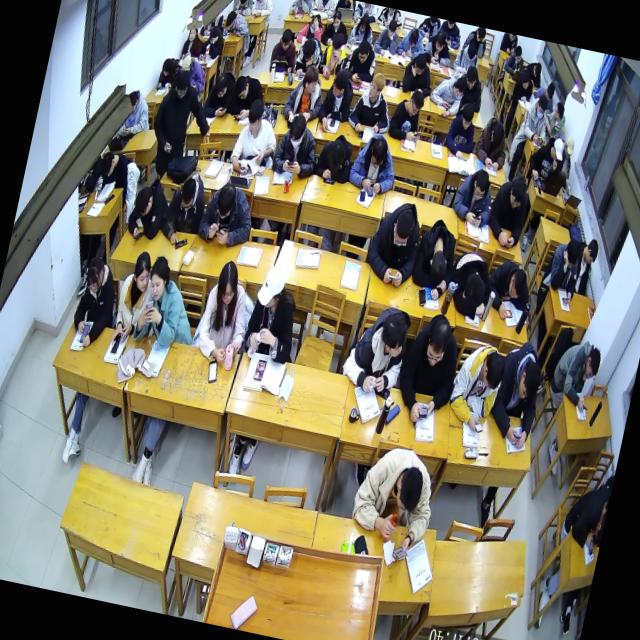bow: (482, 335, 550, 451), (406, 214, 464, 304), (154, 166, 212, 250), (442, 246, 496, 322), (122, 172, 174, 246), (482, 255, 536, 325), (312, 128, 358, 186), (471, 114, 514, 172), (424, 69, 468, 122), (225, 70, 268, 124), (200, 66, 238, 123), (399, 48, 437, 100), (291, 32, 327, 81), (420, 25, 456, 68), (394, 22, 428, 61), (294, 8, 326, 46), (220, 7, 252, 40), (524, 59, 546, 89), (287, 0, 315, 17), (233, 0, 256, 17)
down: (390, 462, 427, 518), (421, 313, 454, 369), (144, 253, 174, 304), (514, 358, 544, 404), (214, 259, 242, 307), (479, 348, 508, 392), (212, 178, 239, 224), (389, 206, 416, 250), (284, 110, 310, 152), (82, 255, 108, 296), (324, 136, 349, 176), (506, 172, 530, 212), (366, 133, 391, 171), (504, 264, 529, 302), (243, 98, 267, 136), (176, 174, 200, 212), (131, 184, 155, 219), (582, 346, 604, 382), (561, 236, 582, 272), (172, 66, 192, 102), (97, 148, 118, 180), (405, 88, 426, 120), (470, 170, 490, 203), (458, 101, 477, 132), (212, 70, 230, 102), (582, 236, 600, 268), (488, 118, 507, 148), (232, 73, 252, 101), (430, 26, 448, 56), (532, 92, 550, 122), (328, 28, 346, 57), (300, 36, 318, 64), (354, 38, 372, 66), (451, 74, 469, 102), (548, 136, 566, 164), (411, 51, 428, 78), (462, 64, 479, 91), (124, 88, 140, 115), (278, 26, 294, 52), (561, 136, 577, 162), (160, 56, 174, 78), (224, 8, 238, 30), (357, 12, 371, 34), (406, 26, 420, 48), (386, 16, 398, 40), (207, 24, 220, 46), (331, 8, 344, 30), (518, 70, 531, 92), (308, 14, 320, 36), (512, 45, 524, 66), (214, 104, 228, 120), (237, 0, 250, 9)
lookup: (186, 26, 198, 44)
sit: (342, 438, 443, 566), (389, 306, 469, 430), (144, 64, 221, 181), (338, 295, 415, 398), (192, 256, 259, 372), (131, 251, 207, 352), (240, 260, 309, 368), (443, 335, 510, 436), (361, 194, 428, 289), (67, 252, 124, 350), (108, 246, 160, 350), (227, 95, 286, 182), (194, 175, 258, 252), (544, 334, 604, 414), (482, 168, 534, 250), (346, 128, 404, 198), (344, 68, 400, 139), (270, 109, 324, 182), (280, 58, 330, 128), (540, 232, 586, 308), (559, 484, 611, 551), (449, 163, 500, 230), (314, 63, 359, 135), (440, 99, 480, 164), (386, 84, 429, 143), (524, 131, 566, 187), (315, 28, 353, 84), (118, 86, 156, 140), (569, 234, 601, 298), (342, 36, 382, 86), (519, 90, 554, 146), (552, 134, 582, 198), (266, 25, 302, 78), (94, 147, 132, 194), (454, 62, 489, 112), (372, 14, 404, 58), (320, 6, 353, 48), (542, 98, 572, 143), (195, 22, 227, 64), (450, 36, 482, 78), (346, 11, 377, 49), (155, 54, 184, 93), (178, 23, 204, 62), (510, 68, 536, 106), (502, 42, 528, 77), (249, 0, 277, 21)
